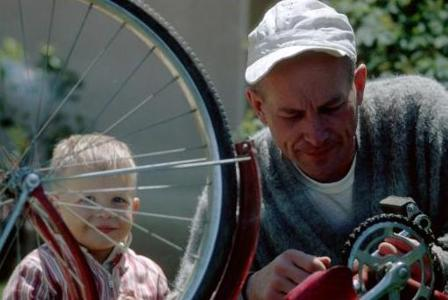person: (167, 2, 448, 300)
